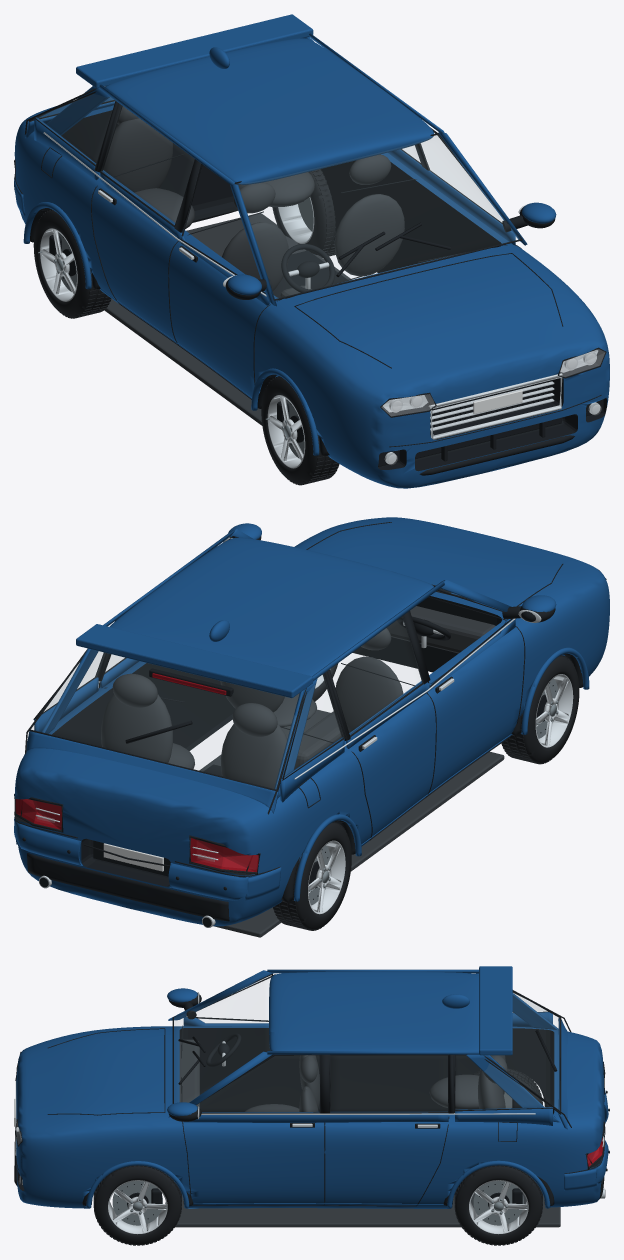
File: car-hatchback.glb
3 views of the same model, one above another, from view 1: azimuth 30°, elevation 25°; view 2: azimuth 150°, elevation 25°; view 3: azimuth 270°, elevation 25° (orthographic). The views are drawn at different scales.
Visible parts, largest first — view 1: body-static__body-paint, body-static__black.001, body-static__interior, body-static__chrome, wheel-FL__rubber.001, wheel-RL__rubber.001, body-static__glass.001, wheel-RR__rubber.001, body-static__clearlens, wheel-RL__chrome, wheel-FL__chrome, steering-wheel__black.001 (+2 smaller); view 2: body-static__body-paint, body-static__black.001, body-static__interior, body-static__redlens, wheel-RL__rubber.001, wheel-FL__rubber.001, wheel-FL__chrome, wheel-RL__chrome, body-static__chrome, body-static__white, body-static__glass.001, steering-wheel__black.001; view 3: body-static__body-paint, body-static__black.001, body-static__interior, wheel-RR__rubber.001, wheel-FR__rubber.001, wheel-FR__chrome, wheel-RR__chrome, body-static__chrome, wheel-RR__steel.001, wheel-FR__steel.001, steering-wheel__black.001, wheel-RL__rubber.001.
Boxes of the visible parts, x1,y1,x2,y2 form: body-static__body-paint: (14,14,609,488); body-static__black.001: (14,88,607,475); body-static__interior: (103,106,404,425); body-static__chrome: (43,132,600,464); wheel-FL__rubber.001: (261,376,339,485); wheel-RL__rubber.001: (33,209,111,318); body-static__glass.001: (38,97,512,231); wheel-RR__rubber.001: (272,169,335,257); body-static__clearlens: (382,349,604,464); wheel-RL__chrome: (40,228,77,301); wheel-FL__chrome: (267,395,305,468); steering-wheel__black.001: (281,244,335,292); body-static__body-paint: (14,517,609,926); body-static__black.001: (14,522,606,927); body-static__interior: (101,606,504,937); body-static__redlens: (15,673,258,872); wheel-RL__rubber.001: (273,821,351,930); wheel-FL__rubber.001: (501,655,579,764); wheel-FL__chrome: (535,674,573,747); wheel-RL__chrome: (308,840,345,914); body-static__chrome: (35,537,541,927); body-static__white: (103,843,163,871); body-static__glass.001: (42,651,126,714); steering-wheel__black.001: (397,616,450,640); body-static__body-paint: (16,966,608,1208); body-static__black.001: (14,973,609,1208); body-static__interior: (175,1039,560,1227); wheel-RR__rubber.001: (454,1165,542,1245); wheel-FR__rubber.001: (93,1165,181,1245); wheel-FR__chrome: (108,1180,167,1234); wheel-RR__chrome: (469,1180,528,1234); body-static__chrome: (15,992,604,1198); wheel-RR__steel.001: (473,1181,527,1225); wheel-FR__steel.001: (112,1181,166,1225); steering-wheel__black.001: (206,1033,241,1067); wheel-RL__rubber.001: (454,1068,542,1113).
Size of the model in its own units: 2.23 by 1.67 by 4.5.
